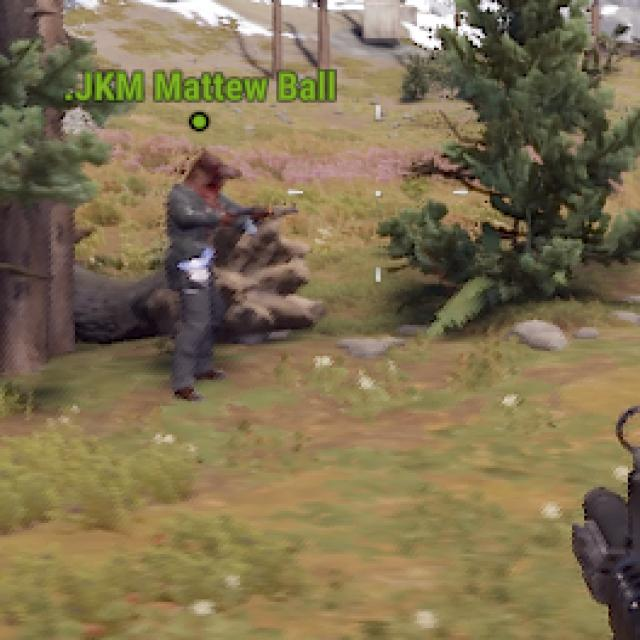Player: (168, 146, 244, 400)
